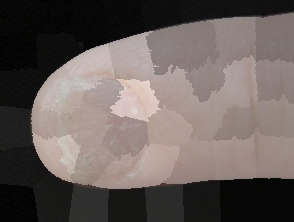Nail_psoriasis: (29, 60, 183, 198)
